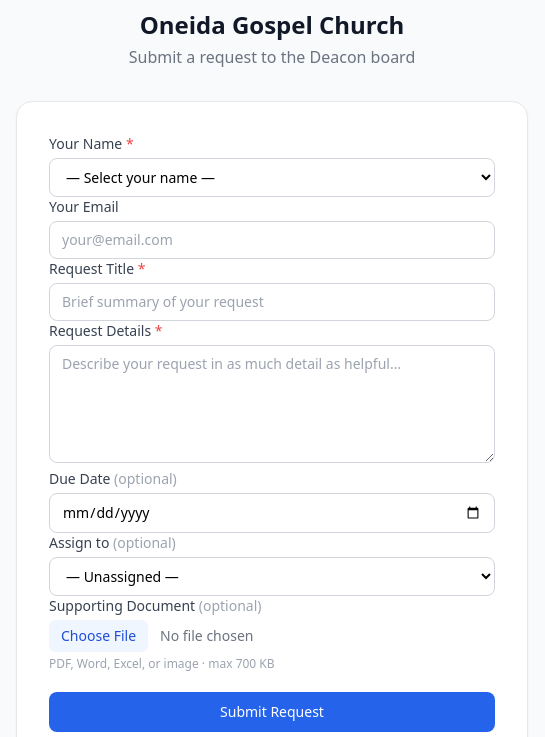
Test: App — callPhilip error paths (T1) › shows an error when the chat fetch rejects
Step 1. Select "Test User One" in the dropdown labelled "Your Name *" → [272, 178], box [49,158,495,197]
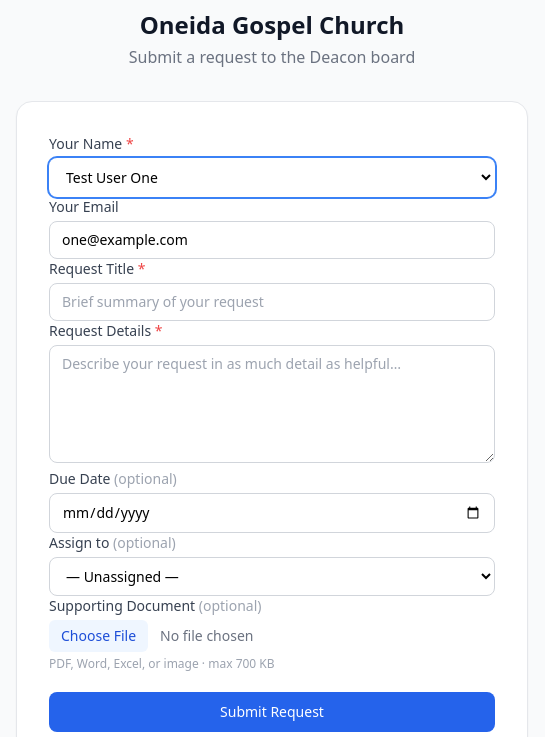
Step 2. Type "Heater" into the field labelled "Request Title *" → [272, 302], box [49,283,495,321]
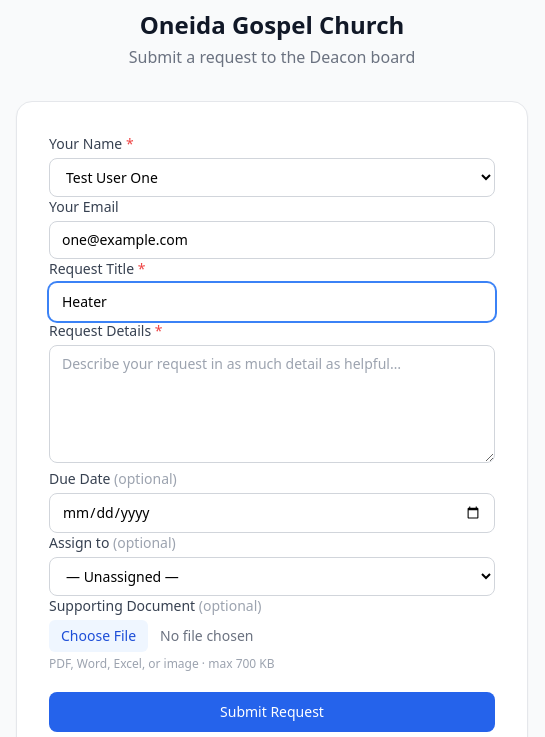
Step 3. Type "Broken heater" into the text box labelled "Request Details *" → [272, 404], box [49,345,495,463]
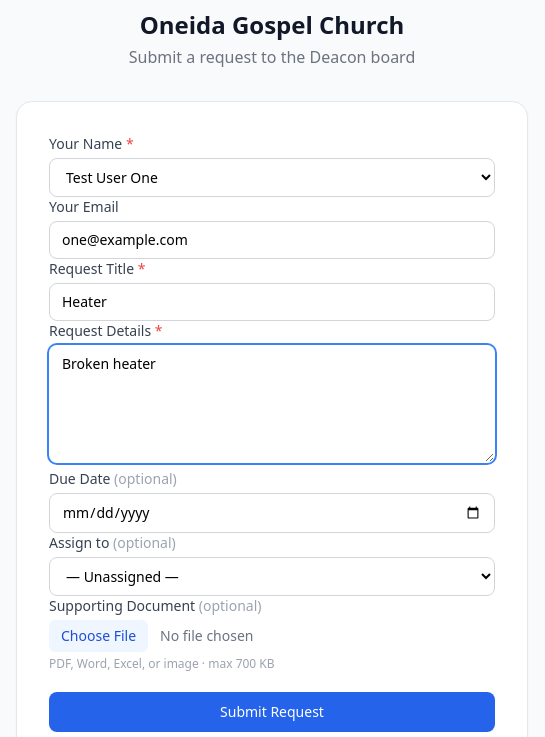
Step 4. Click the button "Submit Request" → [272, 712], box [49,692,495,732]
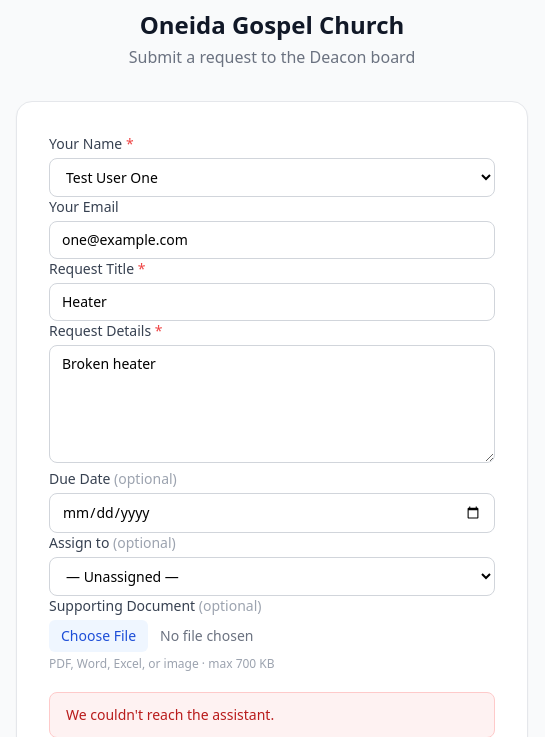
Expected: the message shows "reach the assistant", [66,705,274,724]
